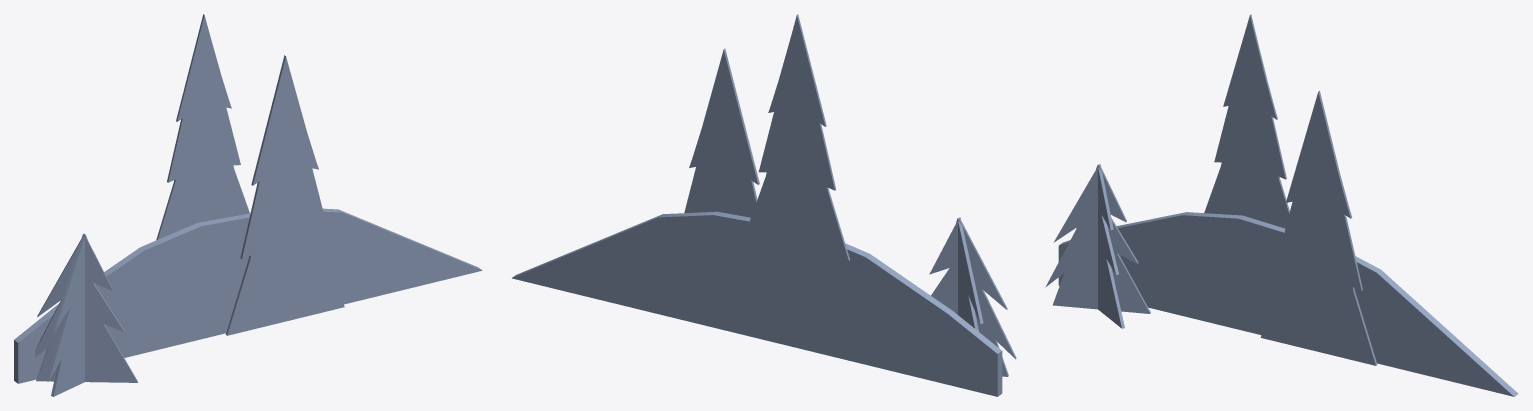
Rendered from frame_0032.glb.
The picture shows the model from 3 angles, left to right: view 1: azimuth 30°, elevation 25°; view 2: azimuth 150°, elevation 25°; view 3: azimuth 330°, elevation 25°; orthographic projection. The views are drawn at different scales.
Visible parts, largest first — view 1: export_trees_001.002; view 2: export_trees_001.002; view 3: export_trees_001.002.
Part boxes in pixels (left/top/right/bottom): export_trees_001.002: left=14, top=14, right=482, bottom=396; export_trees_001.002: left=512, top=14, right=1016, bottom=396; export_trees_001.002: left=1045, top=14, right=1518, bottom=396.
Bounding box in the file's own units: 0.402 × 0.2652 × 0.0496.
